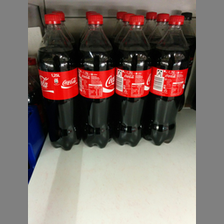soda: (36, 13, 81, 149), (144, 15, 191, 145), (77, 14, 116, 148), (115, 15, 153, 148)
